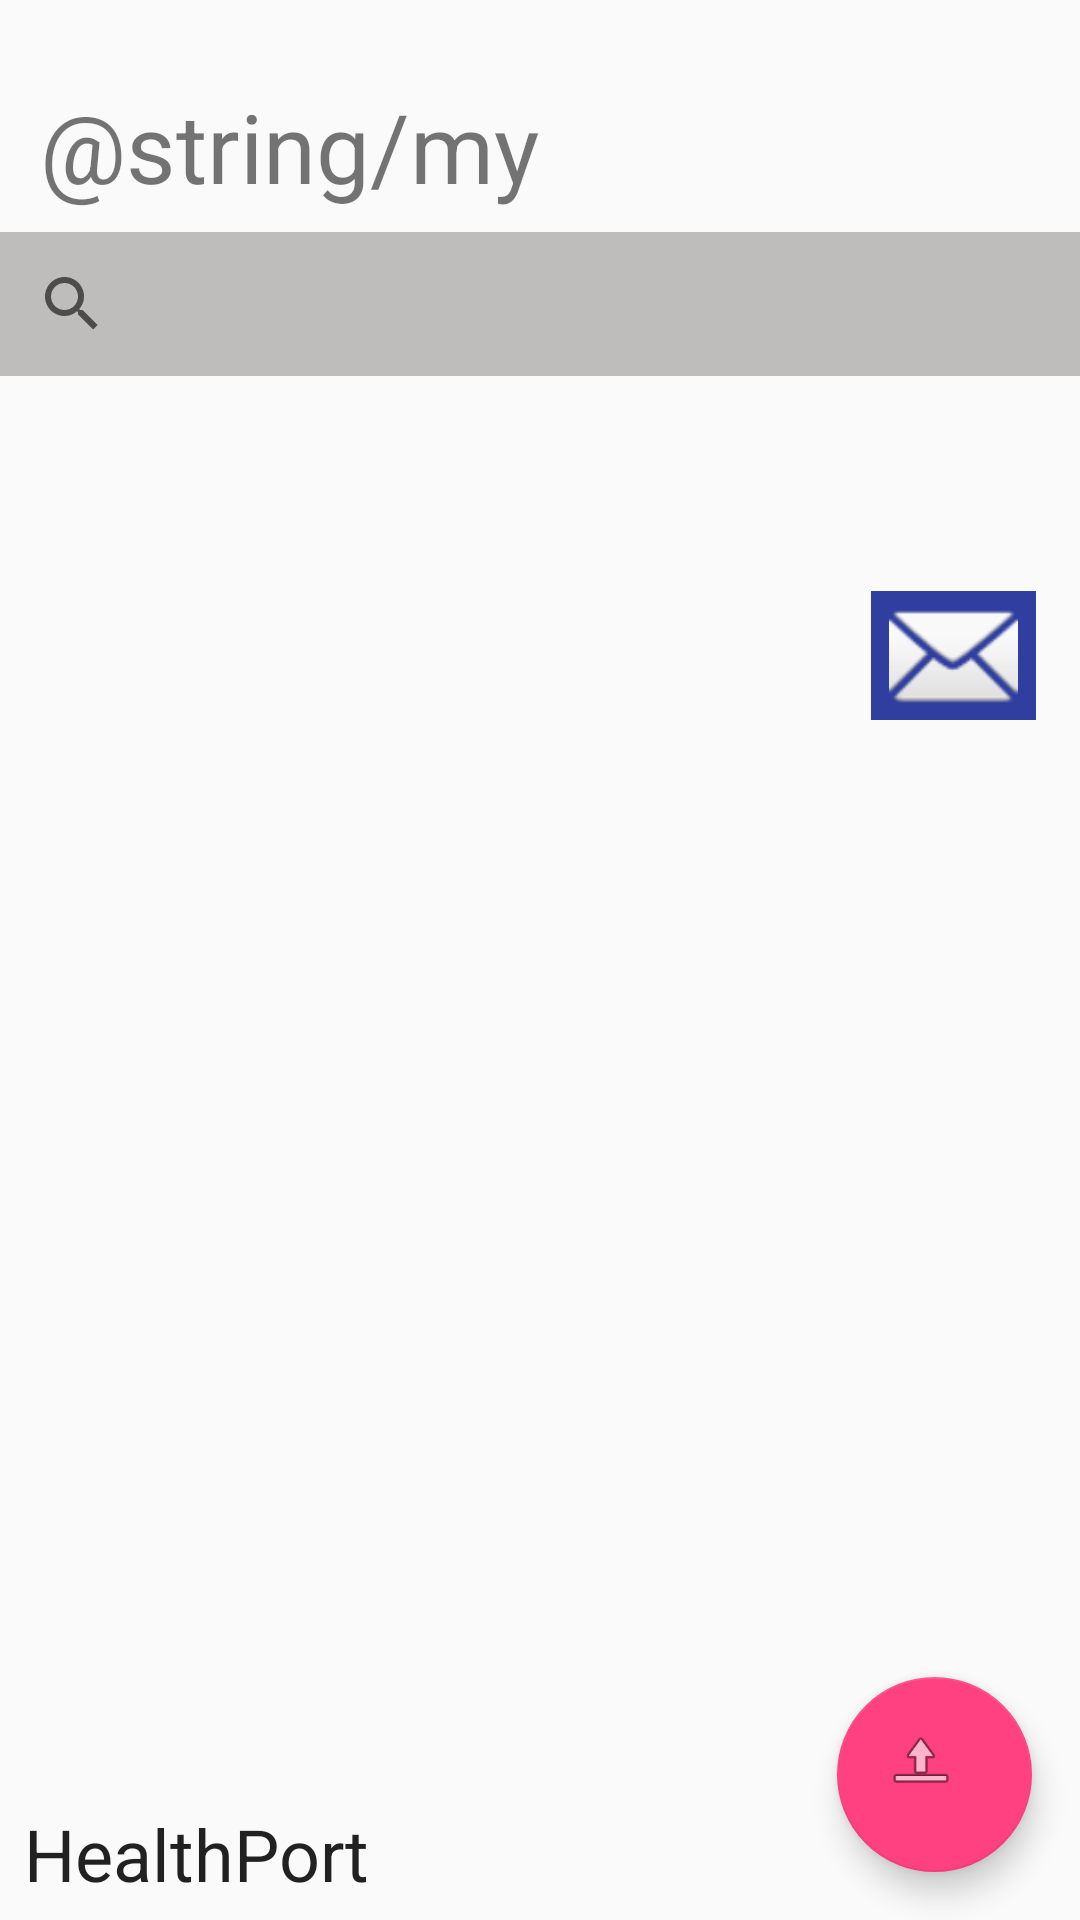

Screen size 1080px x 1920px. Icon name, then its box in pixels as [x1=x1, y1=y1, x2=x2, y2=y2]:
email: [x1=871, y1=591, x2=1036, y2=720]
